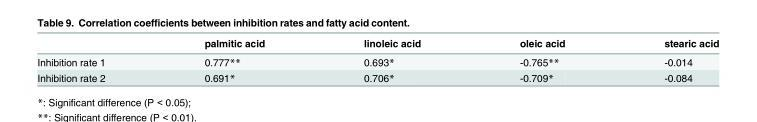table: (36, 36, 718, 83)
table column: (154, 36, 313, 83), (313, 36, 469, 83), (469, 36, 613, 83), (36, 36, 154, 83), (613, 36, 718, 83)
table column header: (36, 36, 718, 52)
table row: (36, 52, 718, 69), (36, 36, 718, 52), (36, 69, 718, 83)
